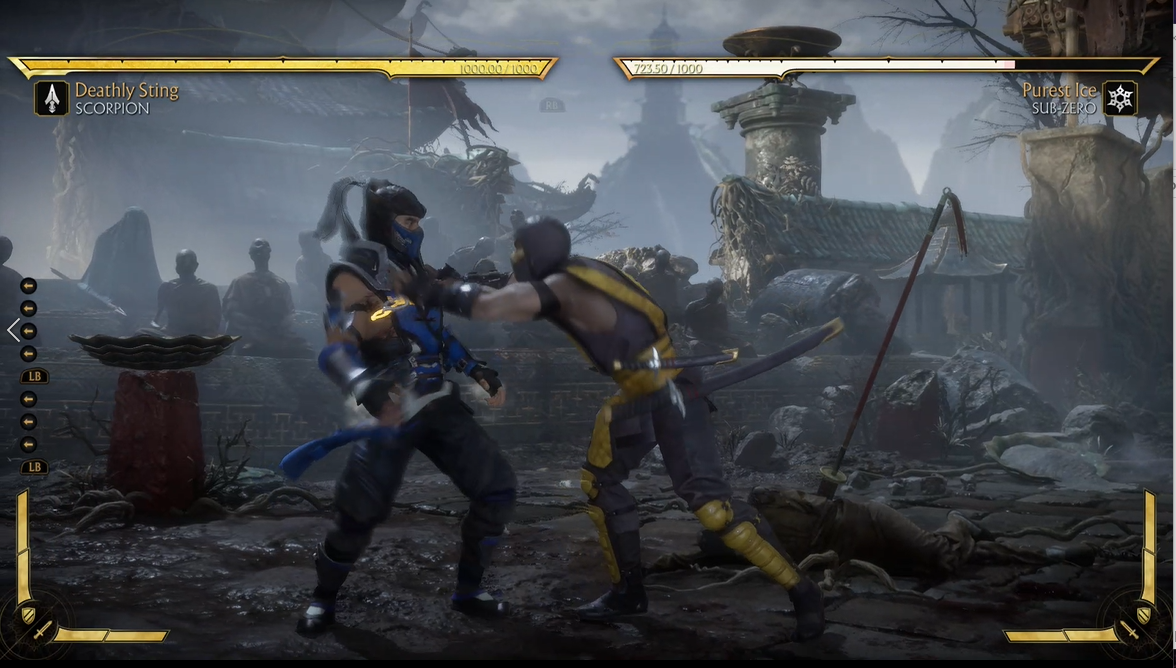grab: (278, 163, 853, 644)
